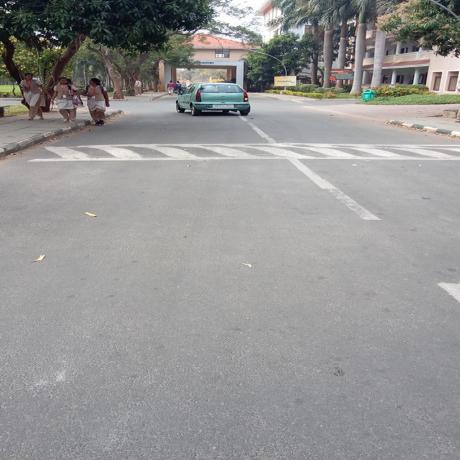Speed Bump: (13, 141, 459, 162)
